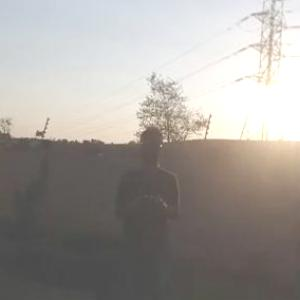follow: (109, 122, 183, 299)
